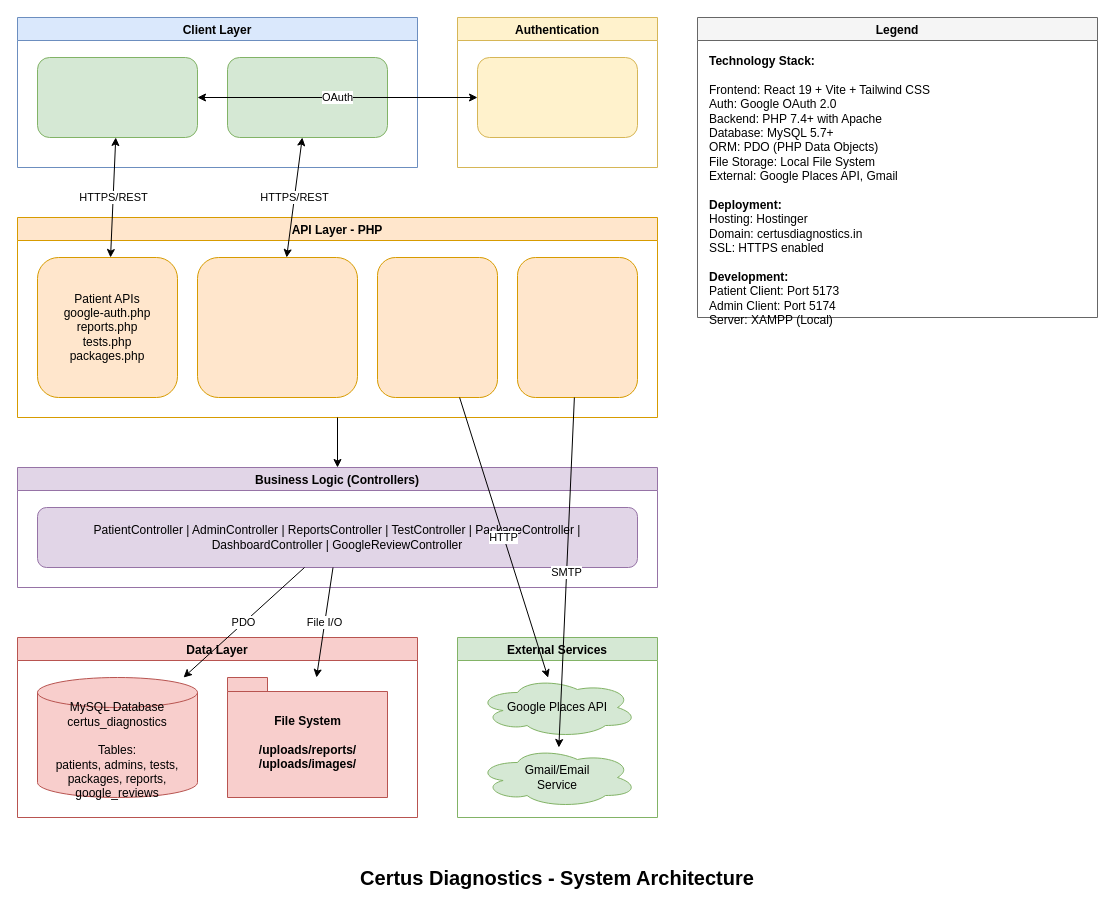
This 1115x915 diagram has some shape labels left out. Each missing label, with the centre of its shape:
Admin APIs admin-google-auth.php patients.php upload-report.php dashboard.php: point (277, 327)
Admin Client React + Vite Port 5174: point (307, 97)
Google OAuth 2.0: point (557, 97)
Google Reviews google-reviews.php: point (437, 327)
Patient Client React + Vite Port 5173: point (117, 97)
Upload API upload.php: point (577, 327)
